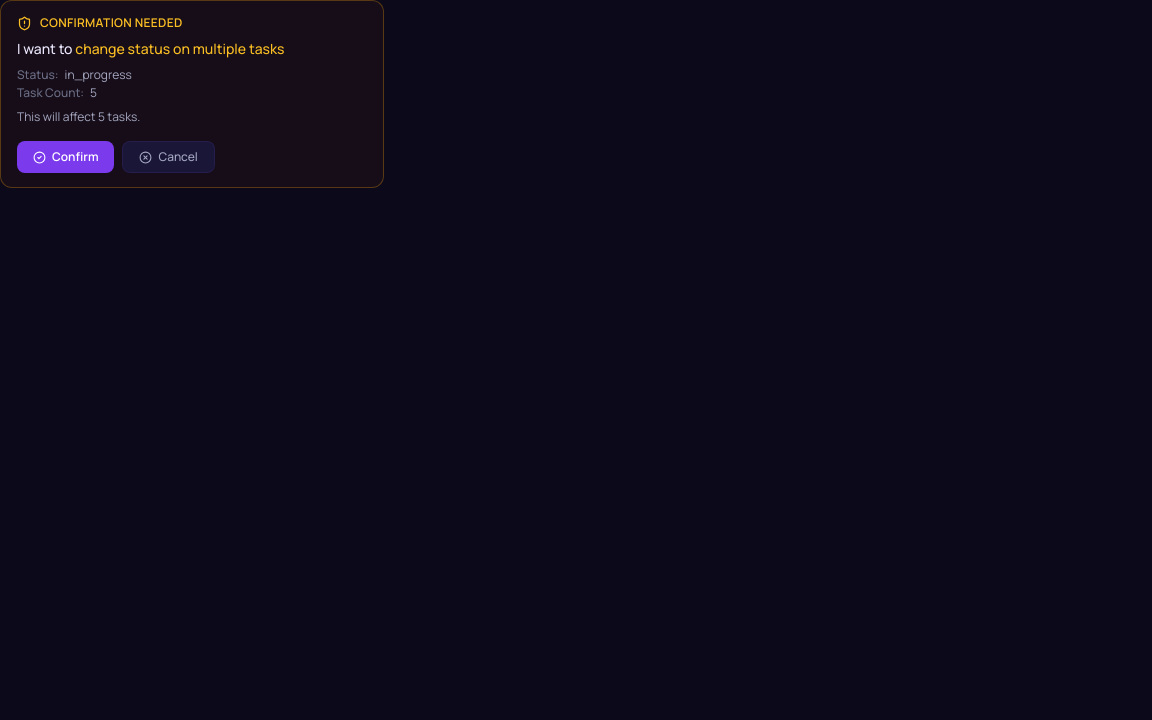
it: Tier2ConfirmCard › shows resolved state after Confirm is clicked
This screenshot has width=1152, height=720.
Click the button with test id "tier2-confirm-btn".
click(66, 157)  # box [17, 141, 114, 173]
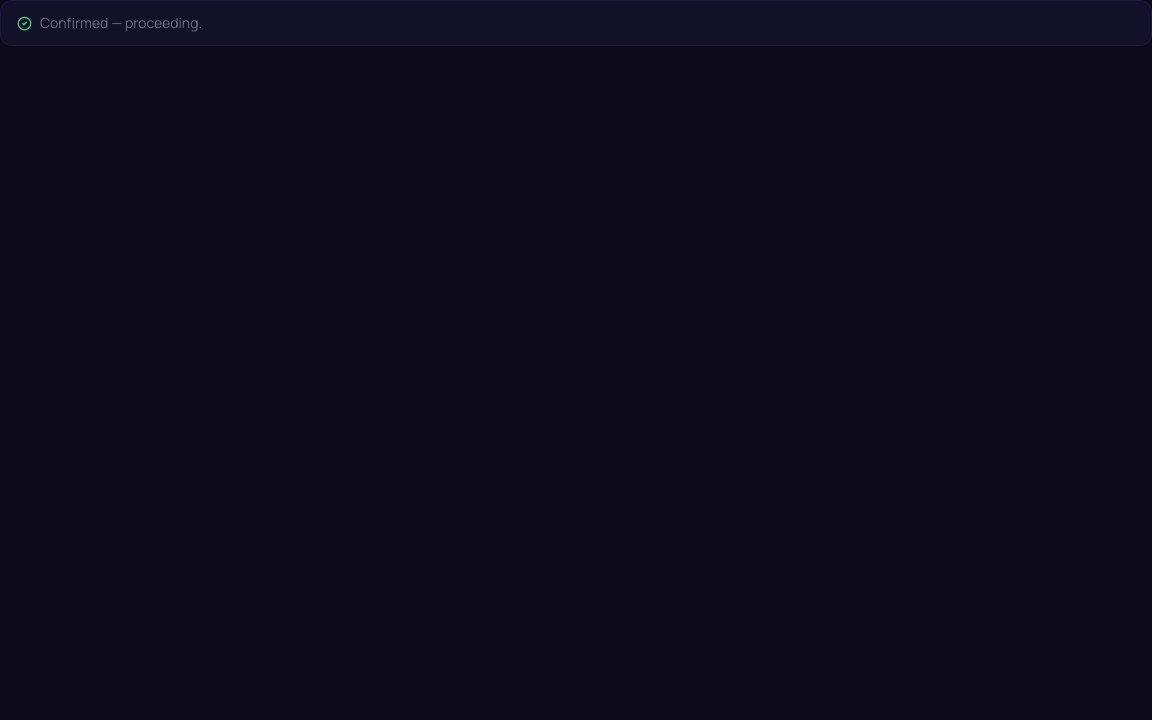
expect the text "Confirmed — proceeding." is shown: met, box [0, 0, 1151, 46]
